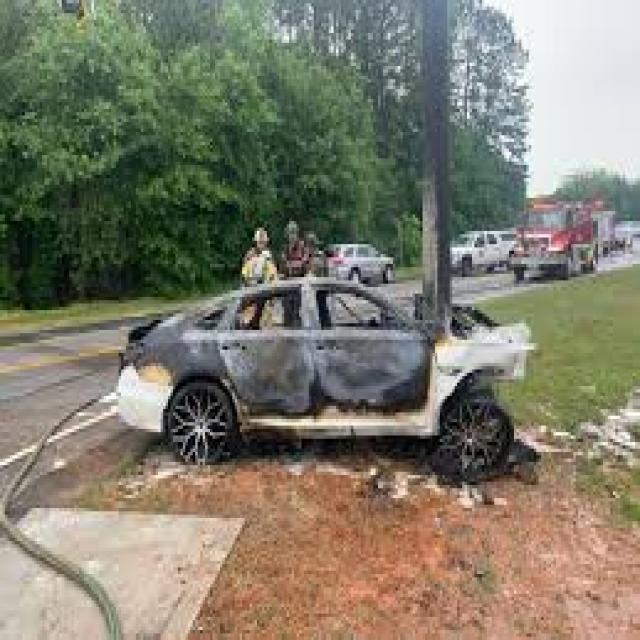accident: (113, 275, 563, 488)
